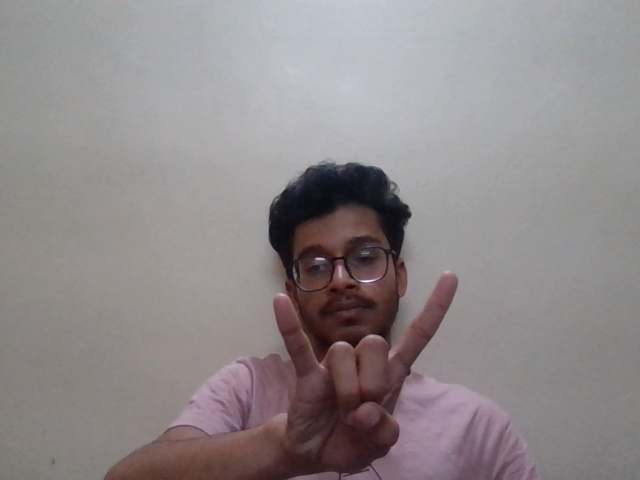i-love-you: (267, 267, 465, 456)
